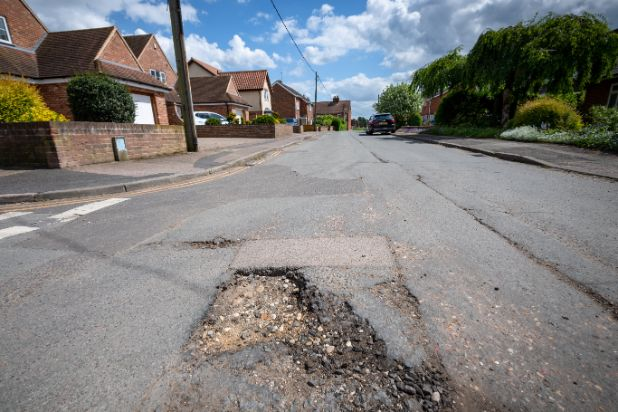pothole: (173, 261, 405, 398)
